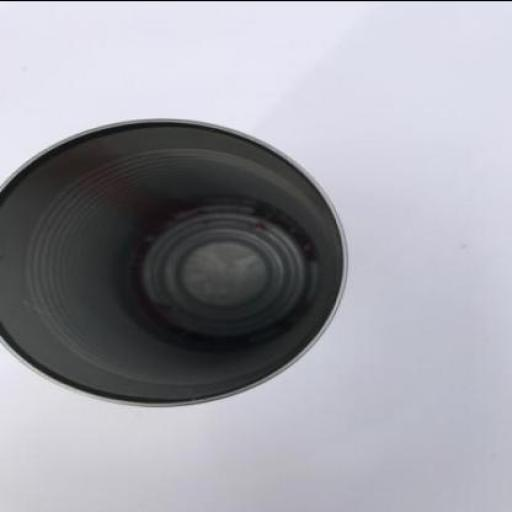metal: (1, 114, 350, 405)
